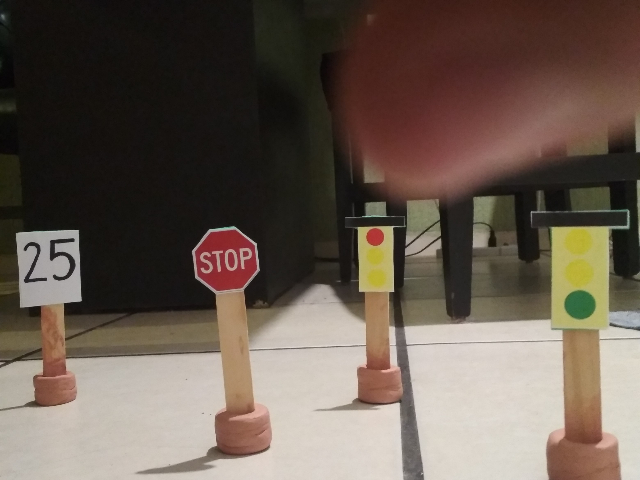Green: (527, 207, 628, 334)
Limit 25: (15, 225, 82, 311)
Red: (341, 214, 407, 294)
Stop: (190, 225, 259, 295)
